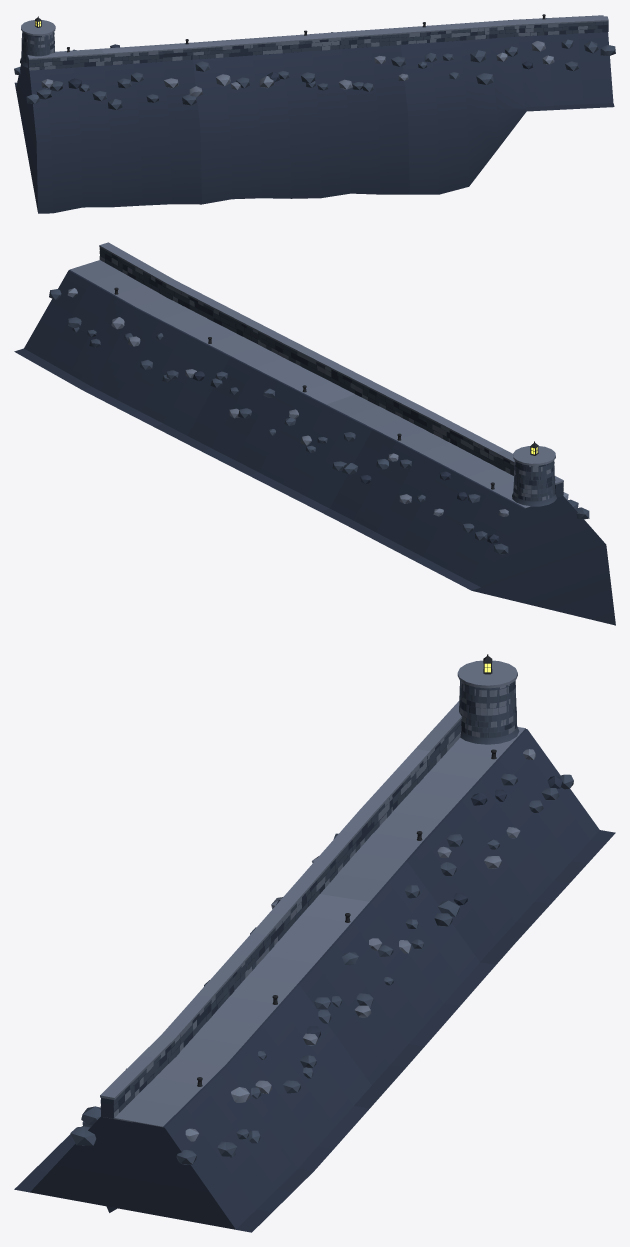
The model's file is breakwater.glb.
3 renders of one model, top to bottom at view 1: azimuth 30°, elevation 25°; view 2: azimuth 150°, elevation 25°; view 3: azimuth 270°, elevation 25°, orthographic. The views are drawn at different scales.
Parts seen in each view (by area): view 1: isl_breakwater; view 2: isl_breakwater; view 3: isl_breakwater.
Part boxes in pixels (left/top/right/bottom): isl_breakwater: left=14, top=14, right=615, bottom=213; isl_breakwater: left=14, top=242, right=615, bottom=625; isl_breakwater: left=14, top=654, right=615, bottom=1232.
Size of the model in its own units: 60.25 by 19.14 by 34.89.
